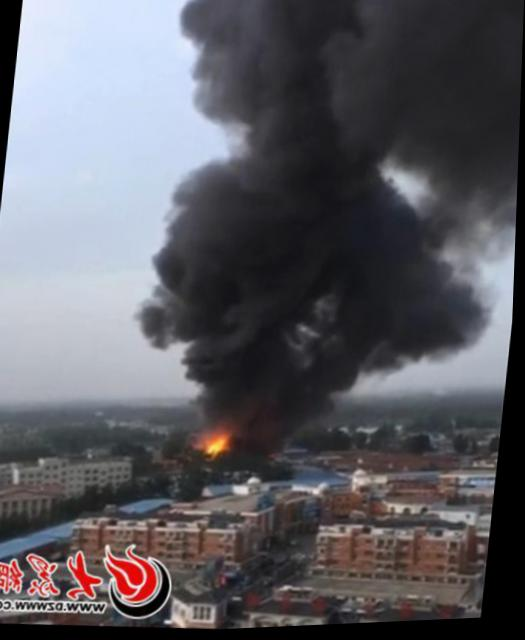fire: (201, 428, 235, 454)
